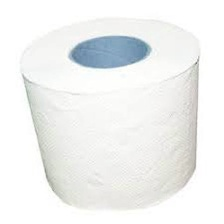tissue: (12, 9, 206, 216)
